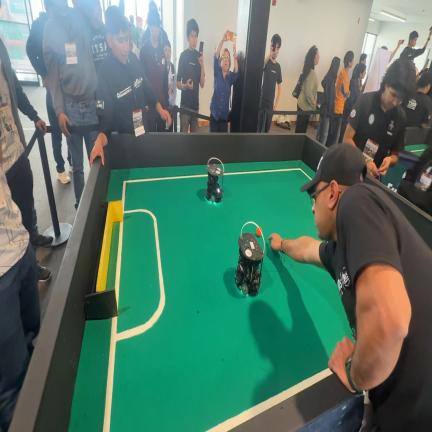cancha: (108, 170, 351, 432), (117, 214, 160, 332), (69, 319, 112, 432), (107, 166, 206, 200), (226, 161, 314, 176), (107, 223, 119, 287)
limites: (206, 368, 332, 432), (116, 209, 165, 342), (103, 317, 117, 432), (227, 168, 311, 179), (124, 174, 205, 183), (115, 220, 123, 306), (115, 222, 122, 300), (228, 168, 301, 175), (122, 182, 126, 216), (104, 412, 110, 432), (106, 396, 112, 413)
pelota: (257, 227, 262, 237)
porteria: (84, 200, 124, 320)
robot: (235, 221, 265, 296), (206, 158, 224, 203)
